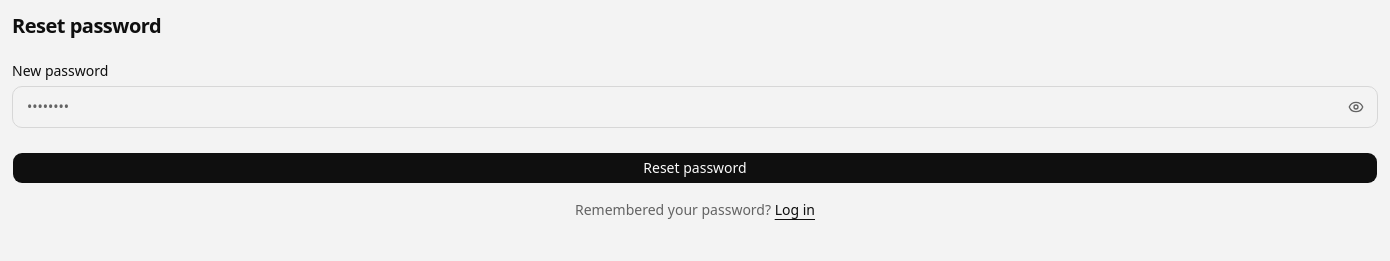
ResetPasswordPage › validates password requirements
Type "short" into the password field labelled "New password" at (695, 107), box [12,86,1378,128]
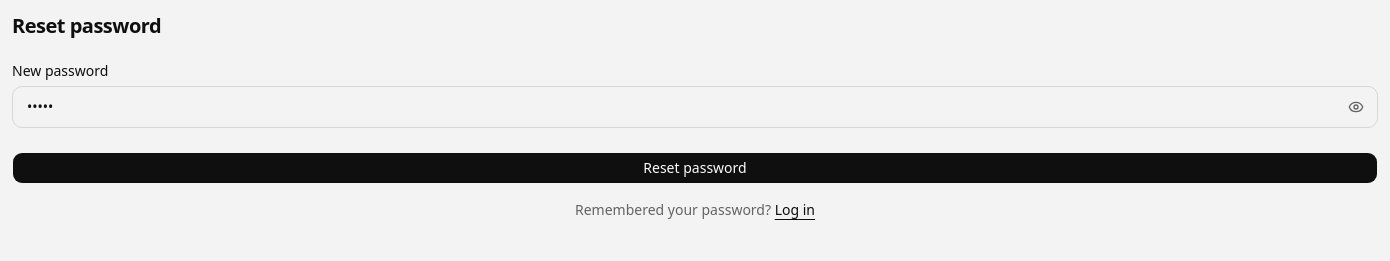
Click the button "Reset password" at (695, 168), box [12,152,1378,184]
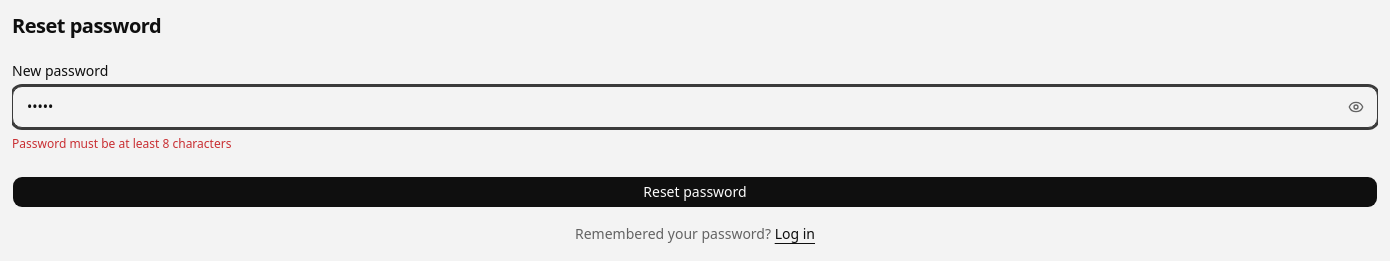
Expected: the text "Password must be at least 8 characters" is shown, [12,135,231,152]
